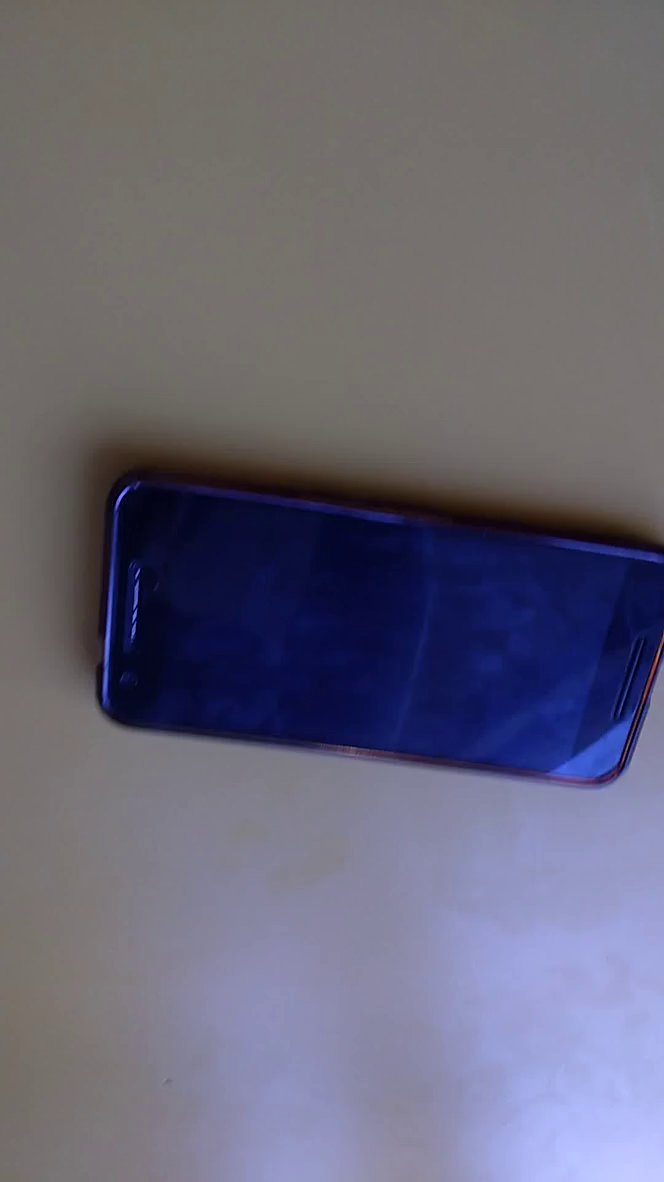phone: (79, 435, 664, 818)
